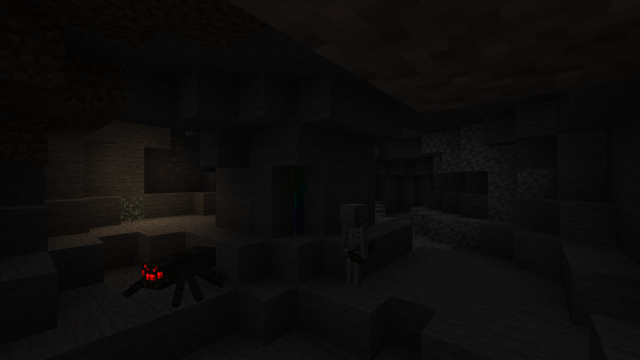araignees: (133, 242, 220, 311)
squelettes: (337, 203, 370, 290)
zombies: (290, 168, 304, 236)
